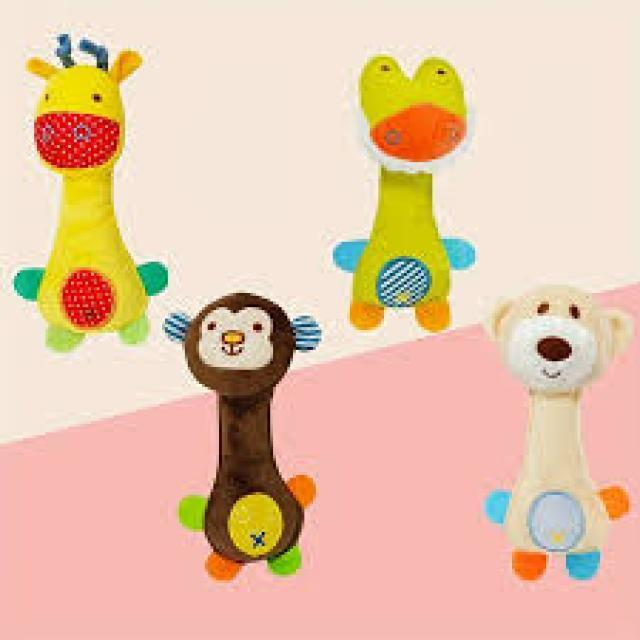soft-toy: (14, 35, 169, 352), (165, 292, 321, 581), (484, 286, 631, 582), (332, 56, 475, 332)
